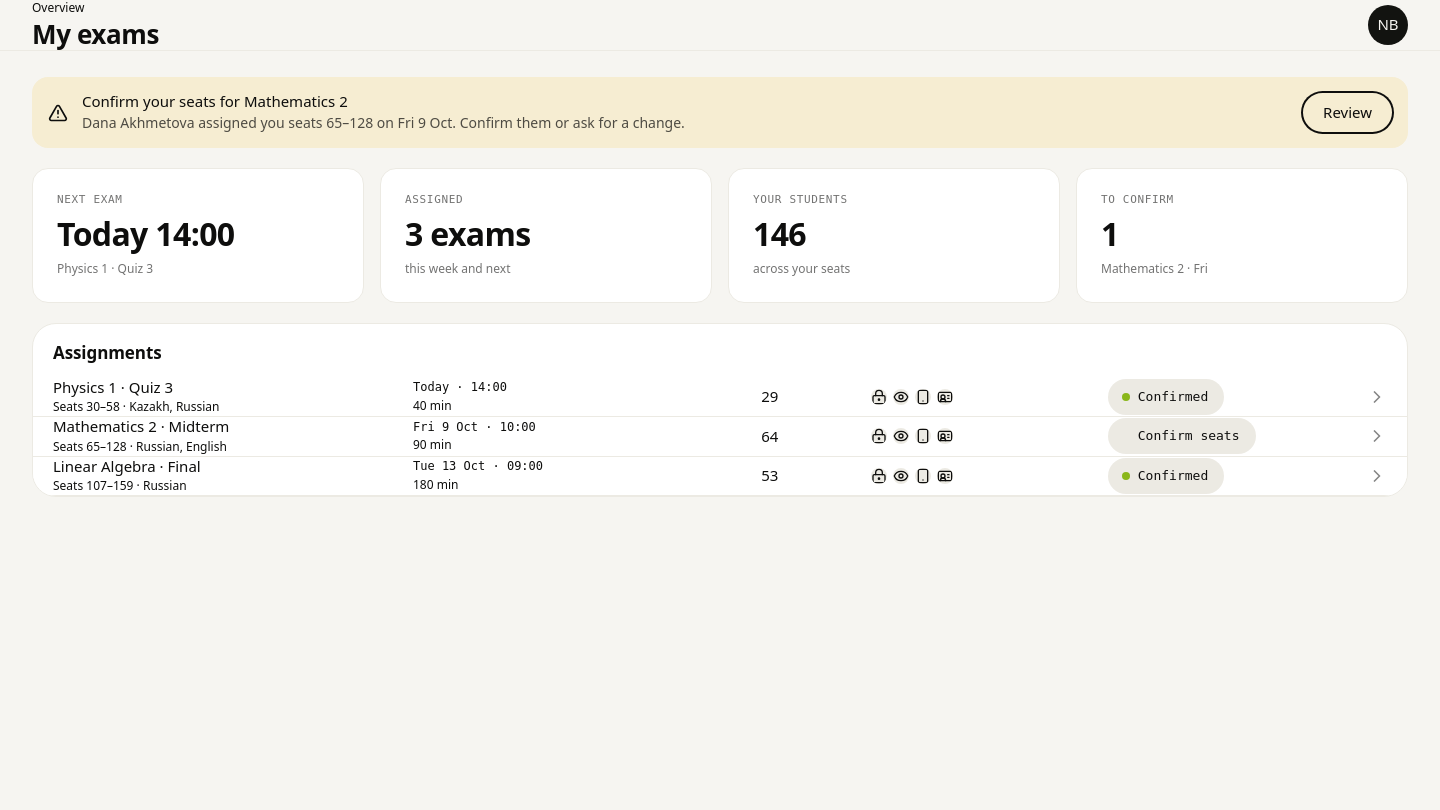
Test: 0.9 My exams › keeps the dialog open and says so when confirm_seats fails
Click the button "Confirm seats": (1182, 436) [1108,418,1256,454]
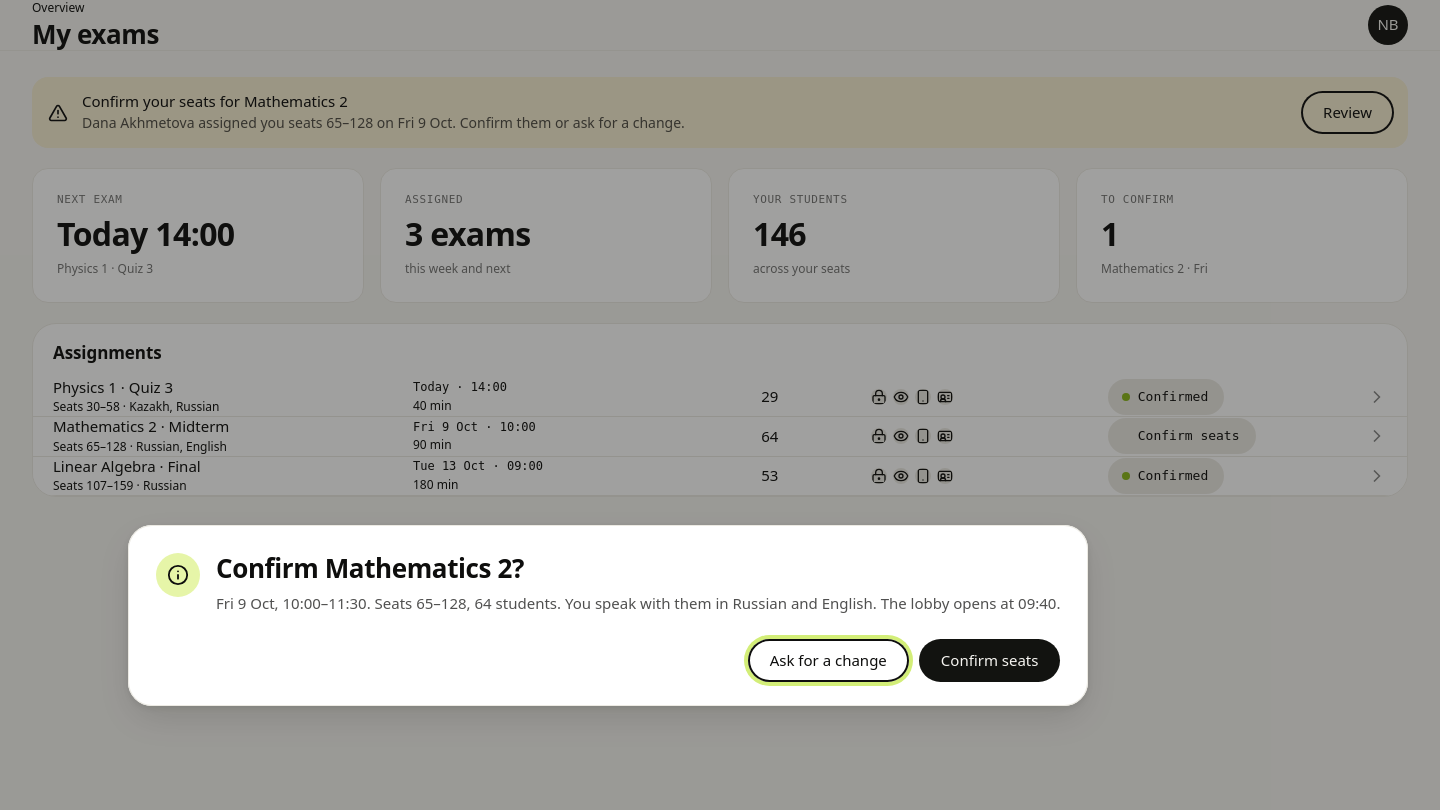
Click the button "Confirm seats": (990, 660) [919,638,1060,682]
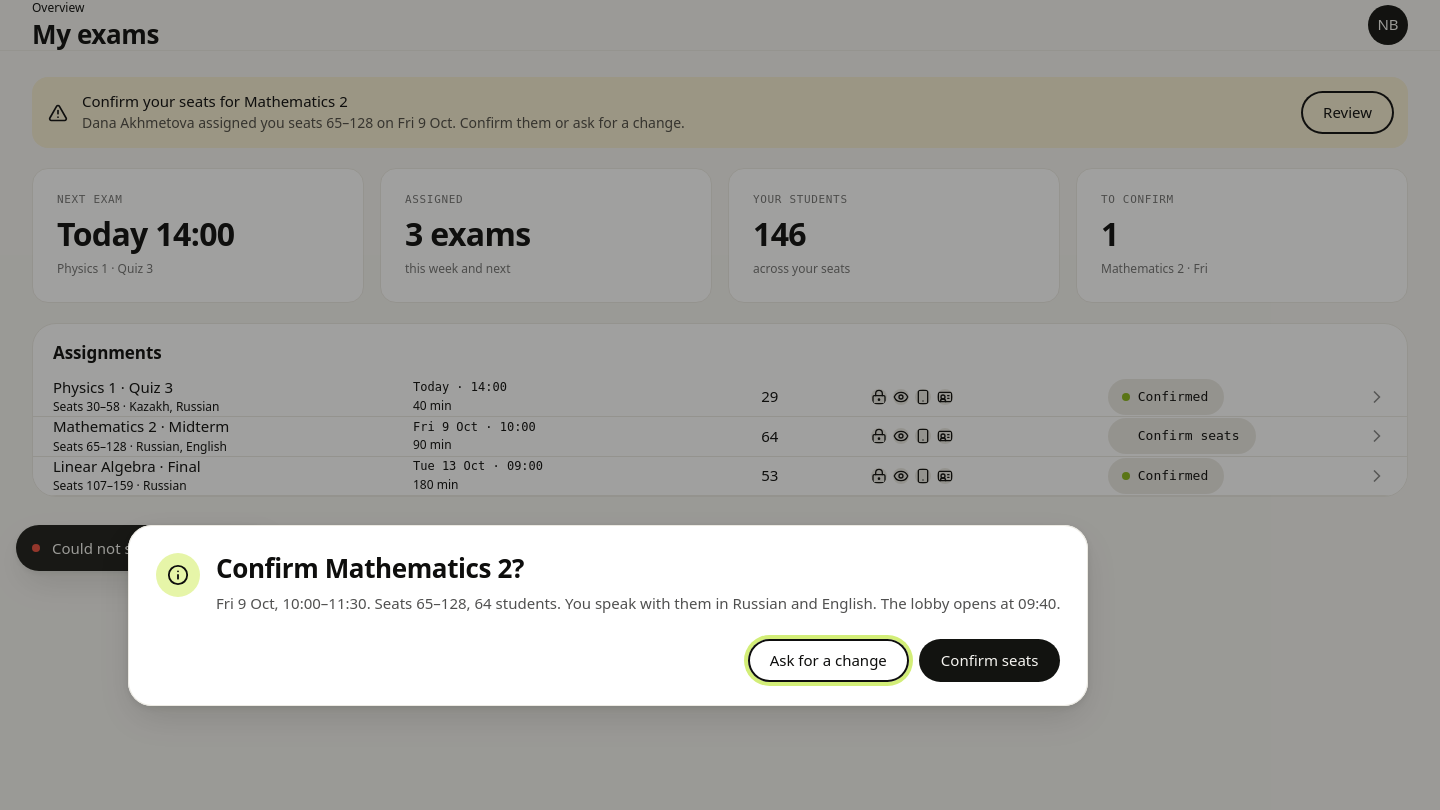
Expected: the button "Confirm seats" in the row of "Mathematics 2 · Midterm" is shown, [1108,418,1256,454]
Expected: the dialog "Confirm Mathematics 2?" is shown, [128,525,1088,706]
Expected: the text "Could not save. Try again." is shown, [52,537,233,559]
